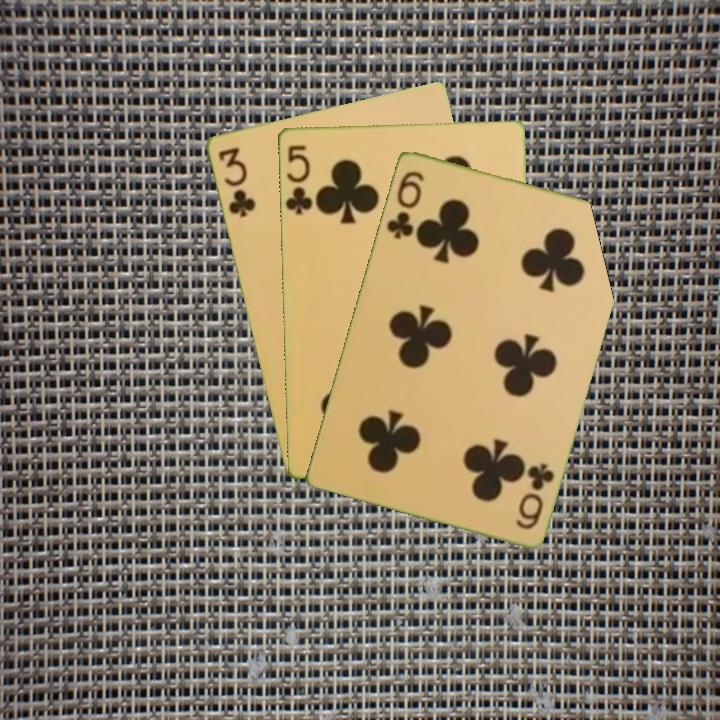3c: (214, 143, 258, 220)
5c: (282, 141, 315, 218)
6c: (383, 166, 428, 242), (512, 459, 557, 532)
